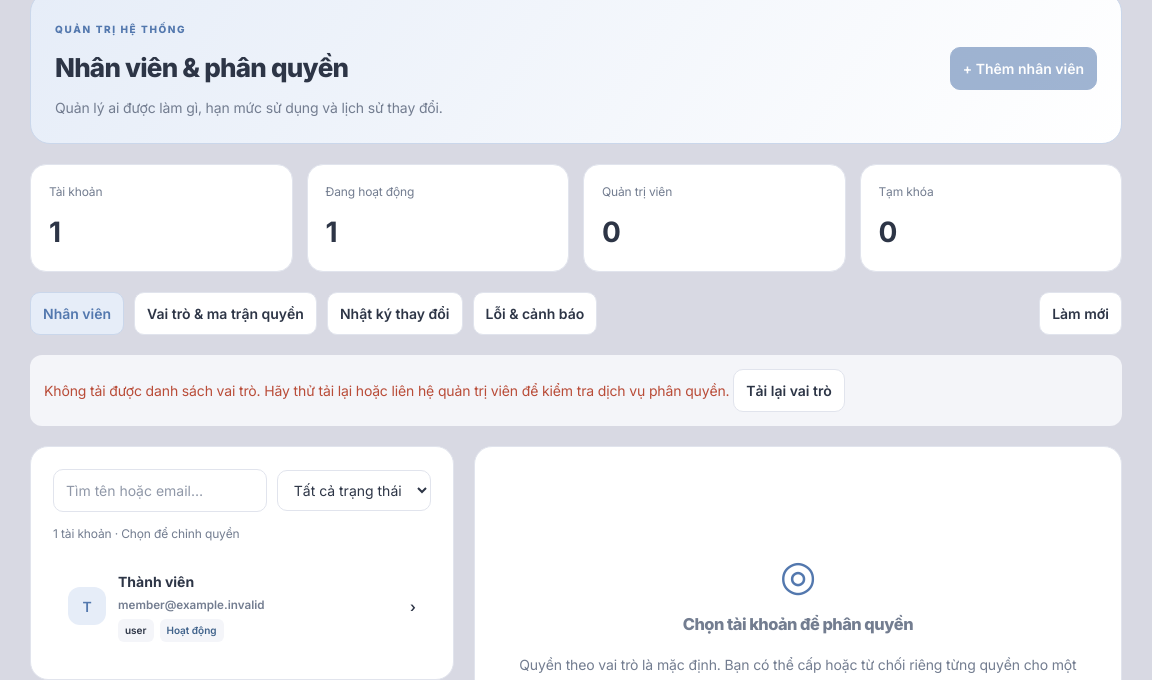
Test: Admin permissions › shows backend errors and warnings and filters them
Click the button "Lỗi & cảnh báo": x=535, y=314 [472,292,597,335]
(page scrolled)
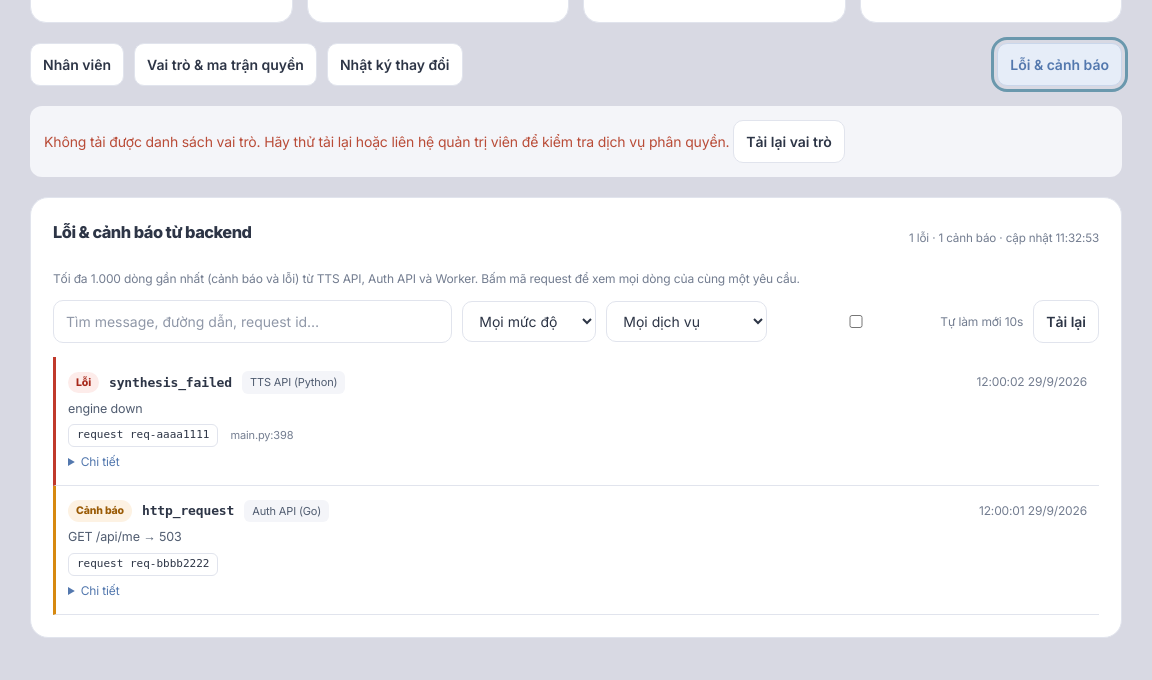
Now the number of elements with test id "log-entry" is 2, box [53,357,1099,486]; [53,486,1099,615]
Now the text "engine down" is shown, box [68,401,143,416]
Now the text "GET /api/me → 503" is shown, box [68,529,182,544]
Click the button "request req-bbbb2222": x=143, y=564 [68,553,218,576]
(page scrolled)
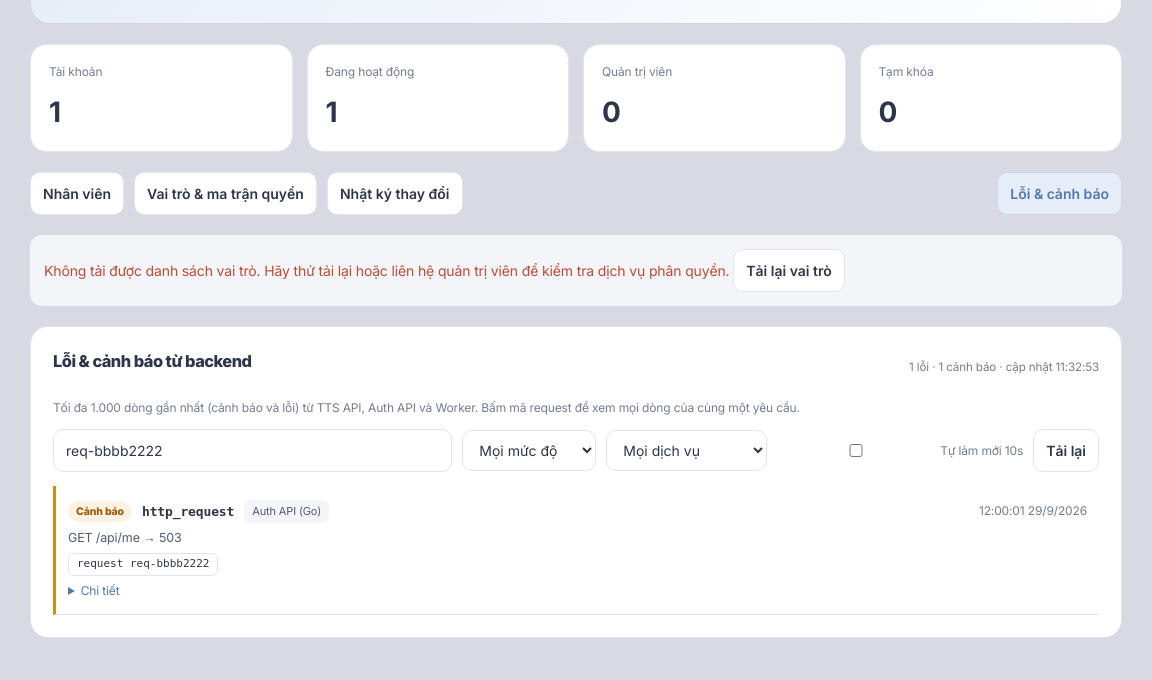
Now the field named "Tìm trong nhật ký" holds "req-bbbb2222"
Now the number of elements with test id "log-entry" is 1, box [53,486,1099,615]
Clear the field named "Tìm trong nhật ký": x=253, y=451 [53,429,452,472]
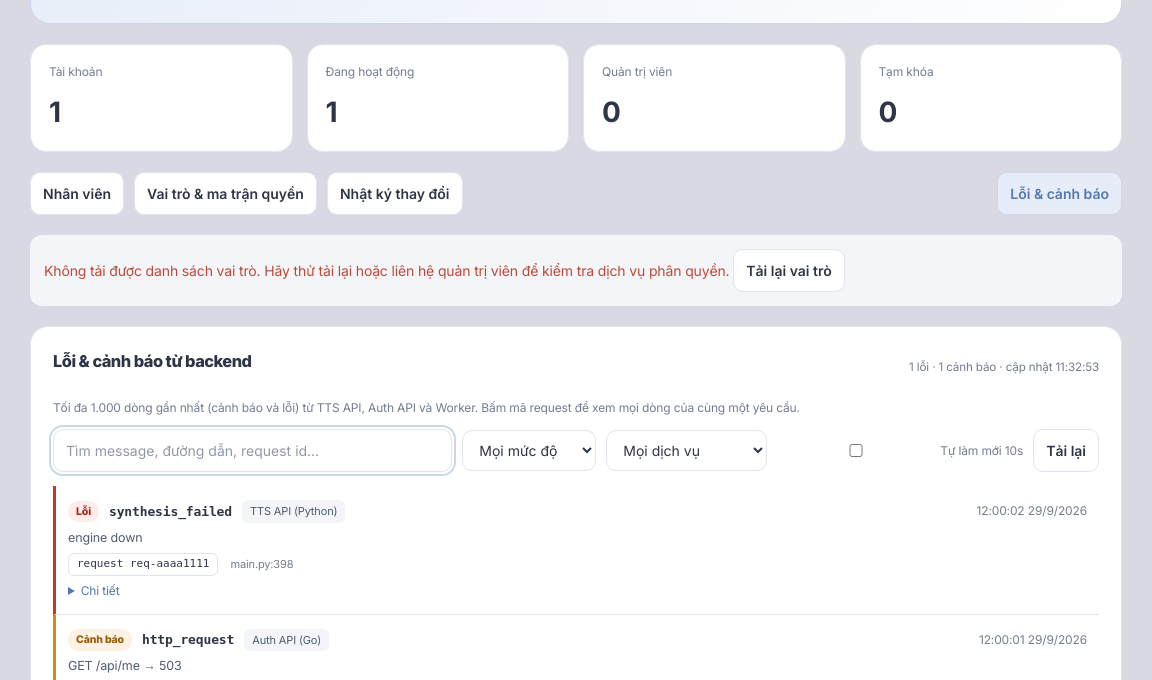
Select "Chỉ lỗi" in the dropdown named "Lọc mức độ": x=529, y=451 [462,430,596,471]
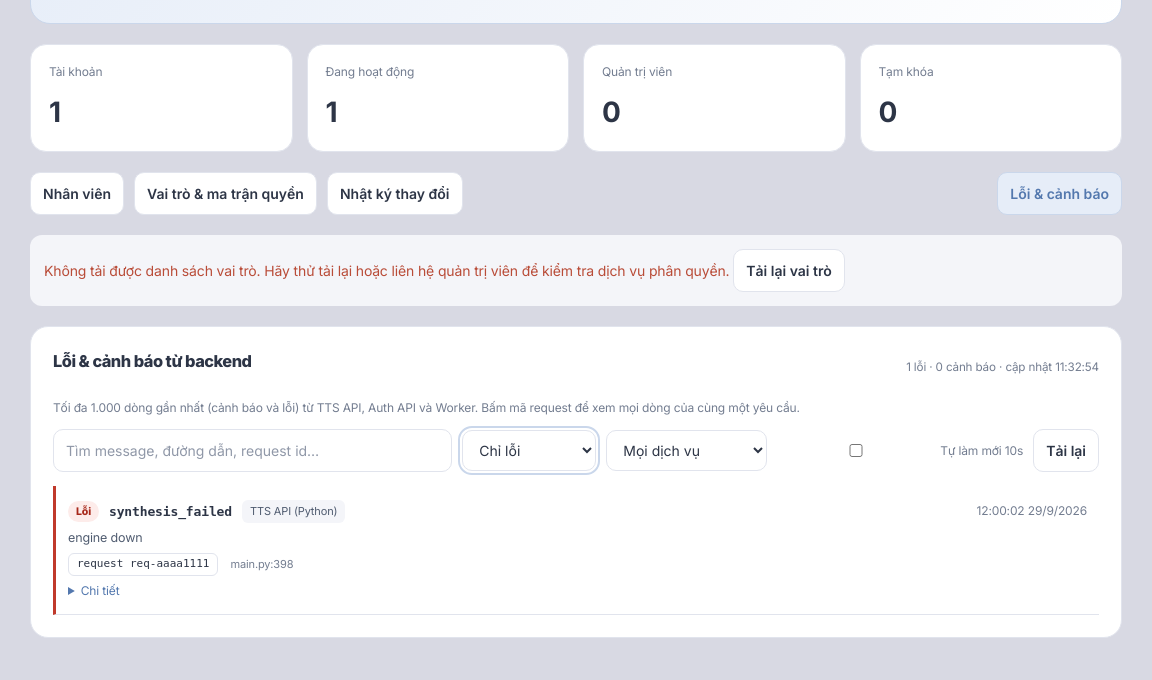
Now the number of elements with test id "log-entry" is 1, box [53,486,1099,615]
